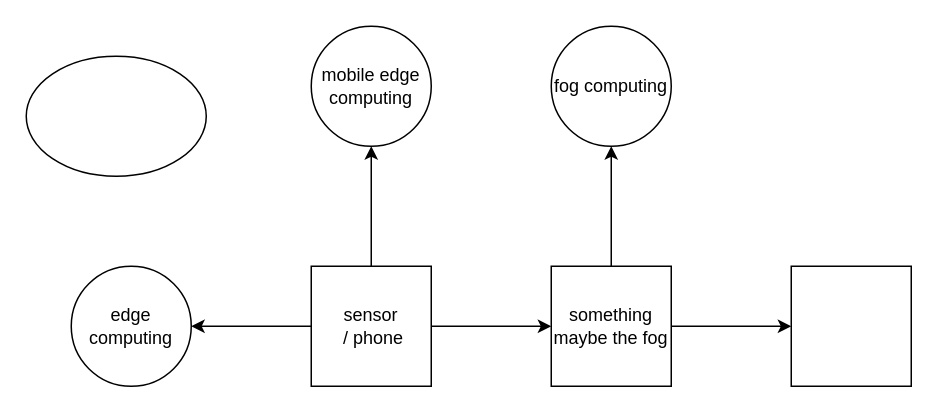
Some shapes in this 938 by 413 pixel diagram are drawn without their labels. The shapes that lost their labels are listed below. From the top down, each one's centre as x and y in pixels, then its label:
the point at 115,115: concepts: - fog computing - IOT - edge computing
the point at 850,325: cloud
